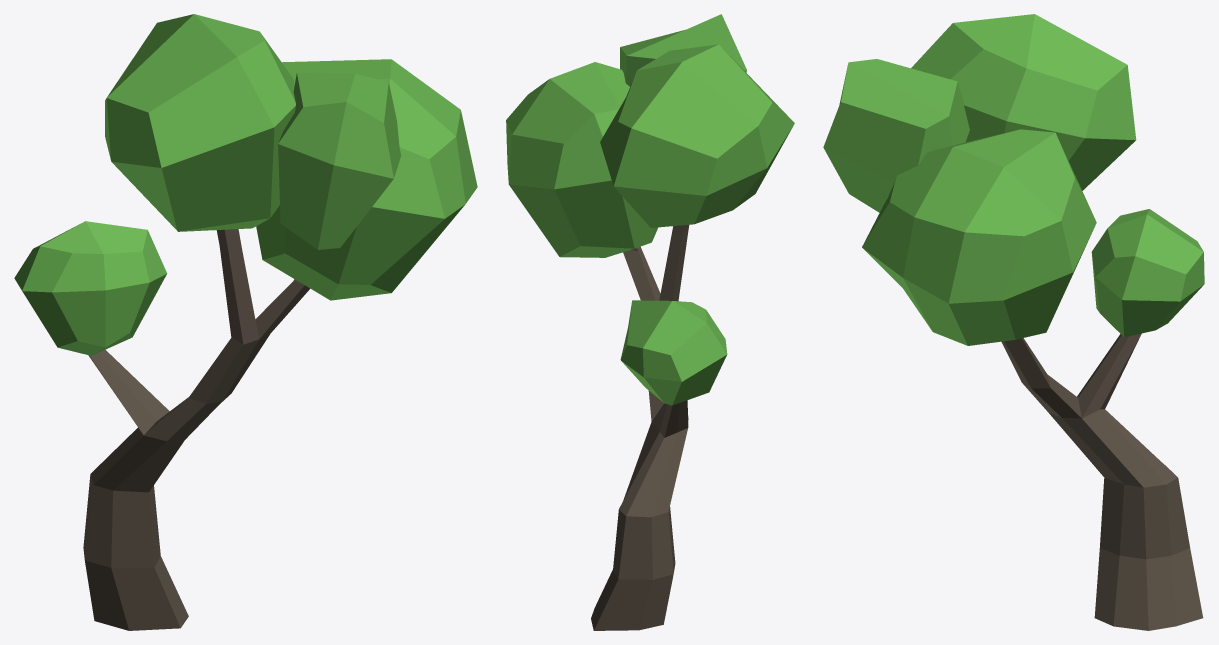
File: Tree1_lp.glb
The picture shows the model from 3 angles, left to right: view 1: azimuth 30°, elevation 25°; view 2: azimuth 150°, elevation 25°; view 3: azimuth 270°, elevation 25°; orthographic projection. The views are drawn at different scales.
Visible parts, largest first — view 1: tree1; view 2: tree1; view 3: tree1.
Boxes of the visible parts, left/top/right/bottom form: tree1: left=14, top=14, right=477, bottom=630; tree1: left=506, top=14, right=794, bottom=630; tree1: left=823, top=14, right=1204, bottom=630.
Bounding box in the file's own units: 2.46 × 4.3 × 2.49.
1 material, 1 textured.
